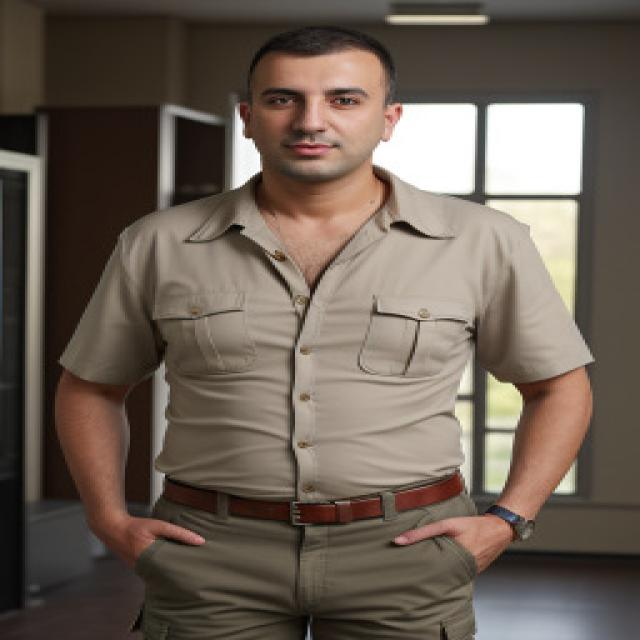Ai human 2: (51, 23, 596, 640)
